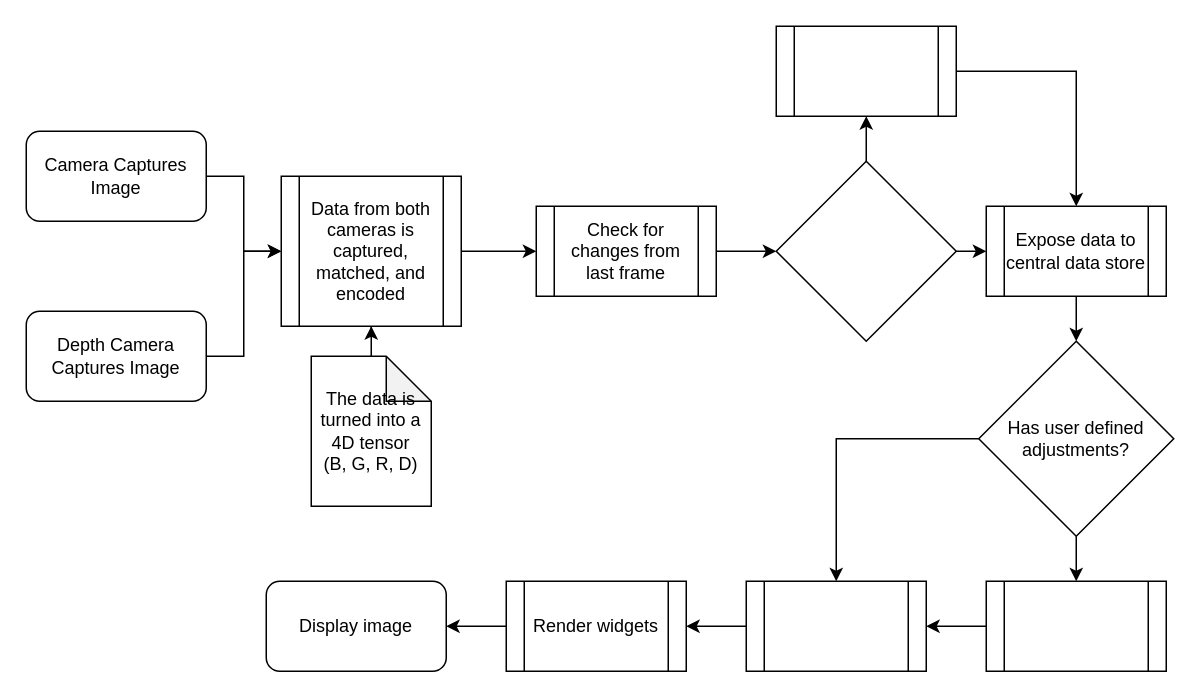
The diagram is 1200 pixels wide and 698 high, and some of its shapes have lost their labels. The shapes that lost their labels are listed below. From the top down, each one's centre as x and y in pixels, then its label:
At point 865,70: "Run user defined checks".
At point 865,250: "Has user defined checks?".
At point 835,625: "Render UI".
At point 1075,625: "Apply image adjustments".
